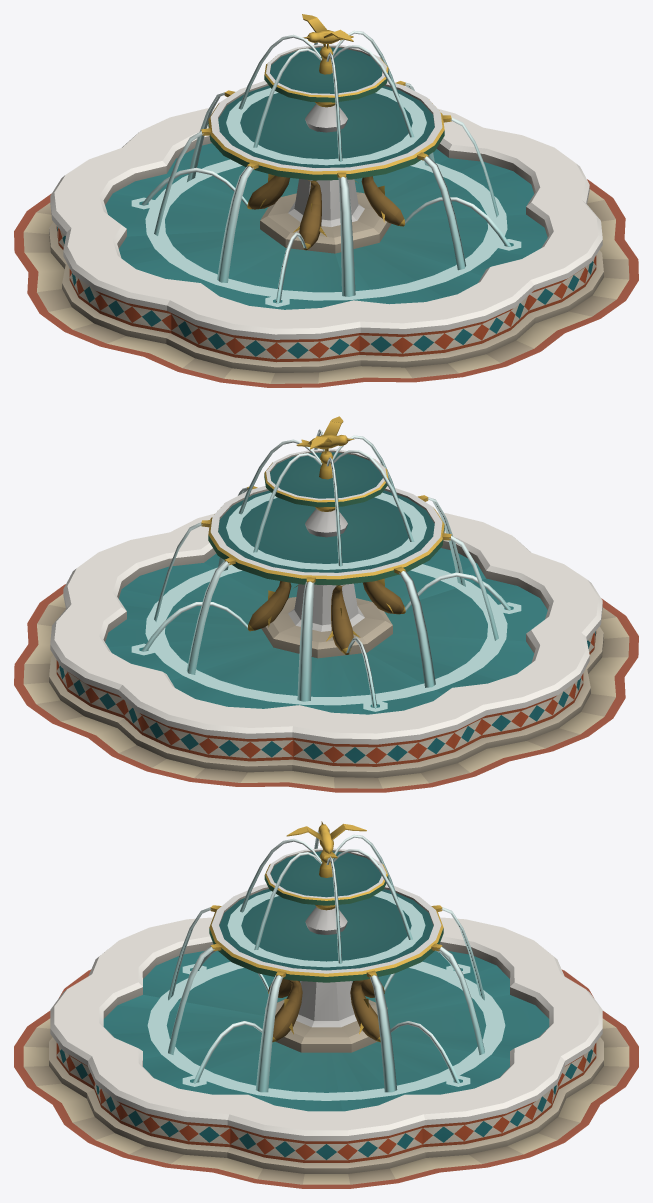
File: pav_fountain.glb
3 renders of one model, top to bottom at view 1: azimuth 30°, elevation 25°; view 2: azimuth 150°, elevation 25°; view 3: azimuth 270°, elevation 25°, orthographic.
Visible parts, largest first — view 1: static_fountain, live_water; view 2: static_fountain, live_water; view 3: static_fountain, live_water.
Boxes of the visible parts, x1,y1,x2,y2 form: static_fountain: (14, 14, 638, 387); live_water: (131, 30, 521, 306); static_fountain: (14, 416, 638, 792); live_water: (131, 429, 521, 711); static_fountain: (14, 821, 638, 1188); live_water: (147, 831, 505, 1100).
Bounding box in the file's own units: 5.87 × 2.39 × 5.87.
